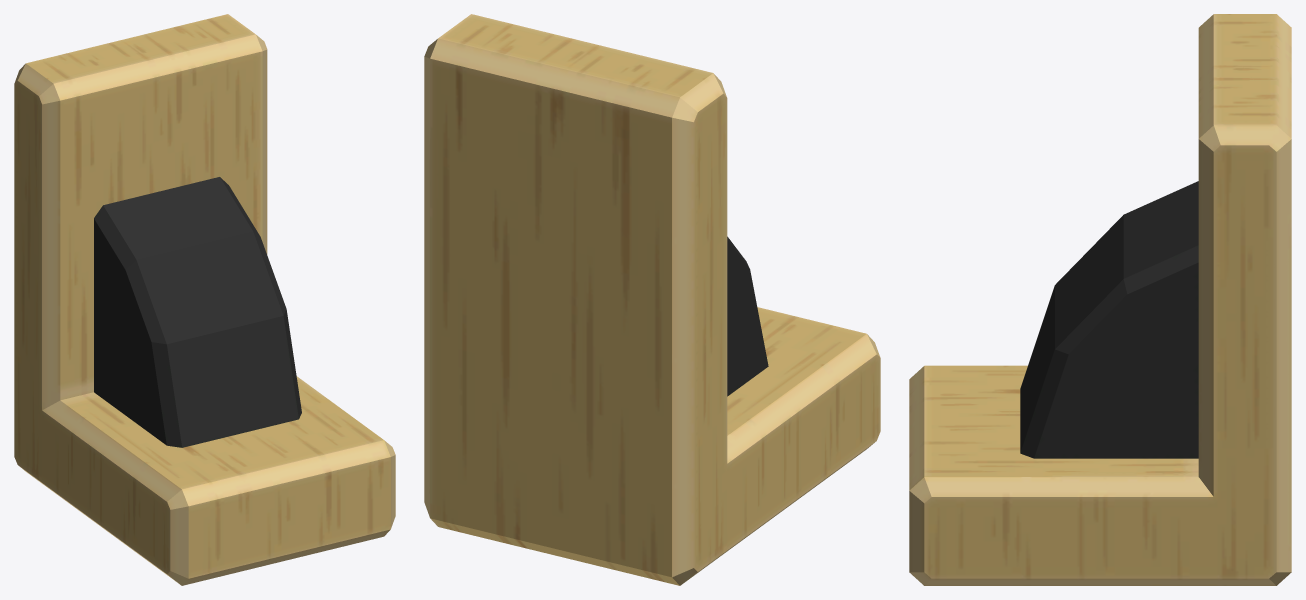
File: ThickBookend.fbx
3 views of the same model, side by side, from view 1: azimuth 30°, elevation 25°; view 2: azimuth 150°, elevation 25°; view 3: azimuth 270°, elevation 25° (orthographic). The views are drawn at different scales.
Visible parts, largest first — view 1: Cube.095; view 2: Cube.095; view 3: Cube.095.
Part boxes in pixels (x1,y1,x2,y2): Cube.095: (14, 14, 395, 585); Cube.095: (424, 14, 880, 585); Cube.095: (909, 14, 1291, 585).
Size of the model in its own units: 489 by 846 by 636.
